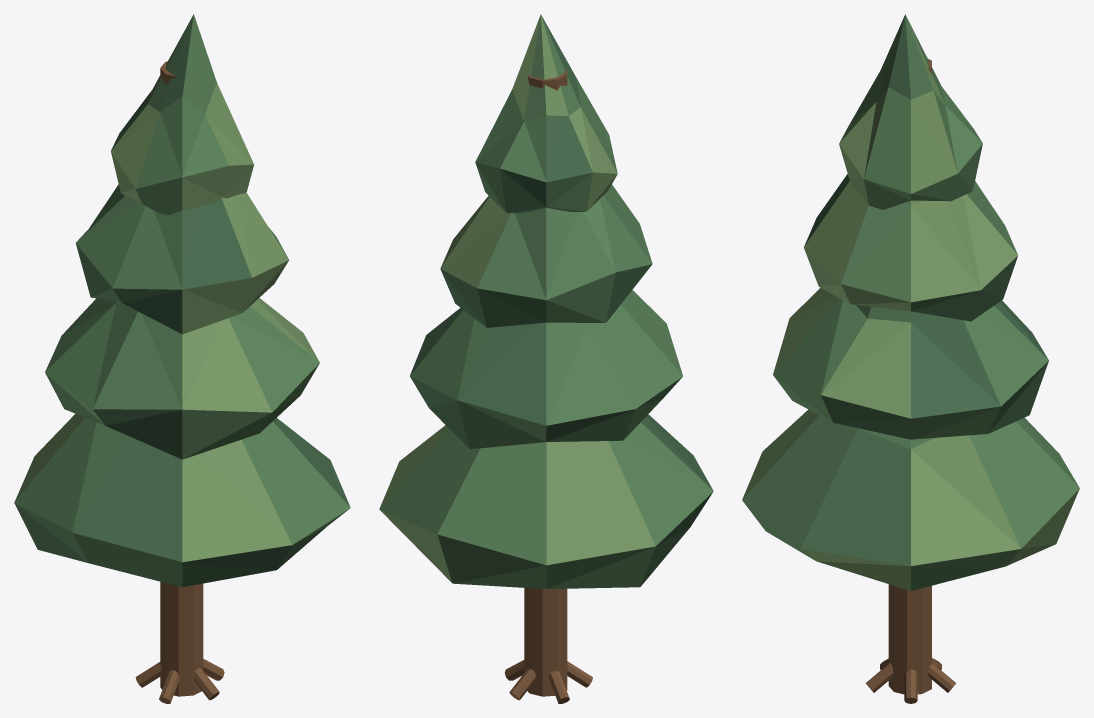
Rendered from pine_sapling.fbx.
3 views of the same model, side by side, from view 1: azimuth 30°, elevation 25°; view 2: azimuth 150°, elevation 25°; view 3: azimuth 270°, elevation 25° (orthographic).
Parts seen in each view (by area): view 1: pine_sapling; view 2: pine_sapling; view 3: pine_sapling.
Boxes of the visible parts, left/top/right/bottom form: pine_sapling: left=14, top=14, right=350, bottom=703; pine_sapling: left=379, top=14, right=713, bottom=703; pine_sapling: left=742, top=14, right=1079, bottom=703.
Bounding box in the file's own units: 118 × 266 × 120.
